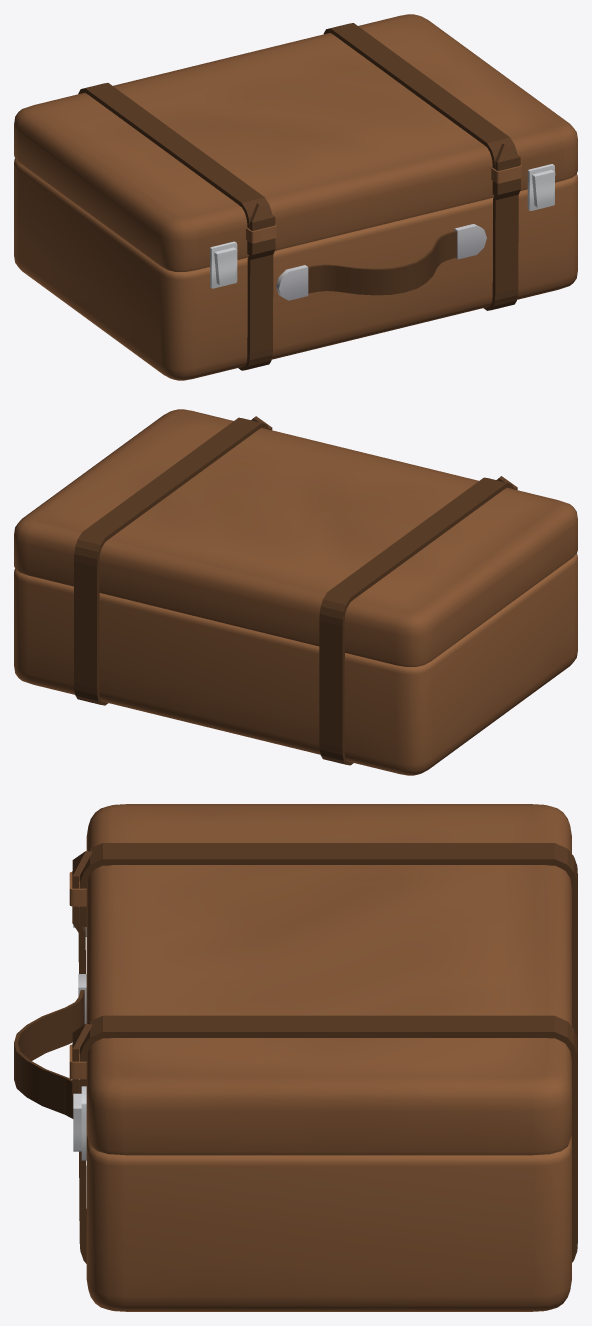
File: Train room 2 Suitcase.fbx
3 renders of one model, top to bottom at view 1: azimuth 30°, elevation 25°; view 2: azimuth 150°, elevation 25°; view 3: azimuth 270°, elevation 25°, orthographic. The views are drawn at different scales.
Visible parts, largest first — view 1: Box, Belts, handle, buckles, Iron sheets, Little belt; view 2: Box, Belts; view 3: Box, Belts, handle, buckles, Little belt.
Boxes of the visible parts, x1,y1,x2,y2 form: Box: (14,14,577,380); Belts: (78,23,520,370); handle: (308,231,456,295); buckles: (210,164,555,288); Iron sheets: (276,224,486,300); Little belt: (246,164,521,243); Box: (14,409,577,775); Belts: (74,416,517,765); Box: (86,804,571,1311); Belts: (72,843,577,1263); handle: (14,990,84,1118); buckles: (73,925,86,1160); Little belt: (69,872,86,1079).
Size of the model in its own units: 10.63 by 4.12 by 8.7.
5 materials, 5 textured.
